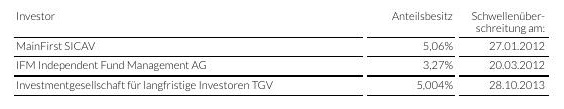table: (0, 0, 564, 109)
